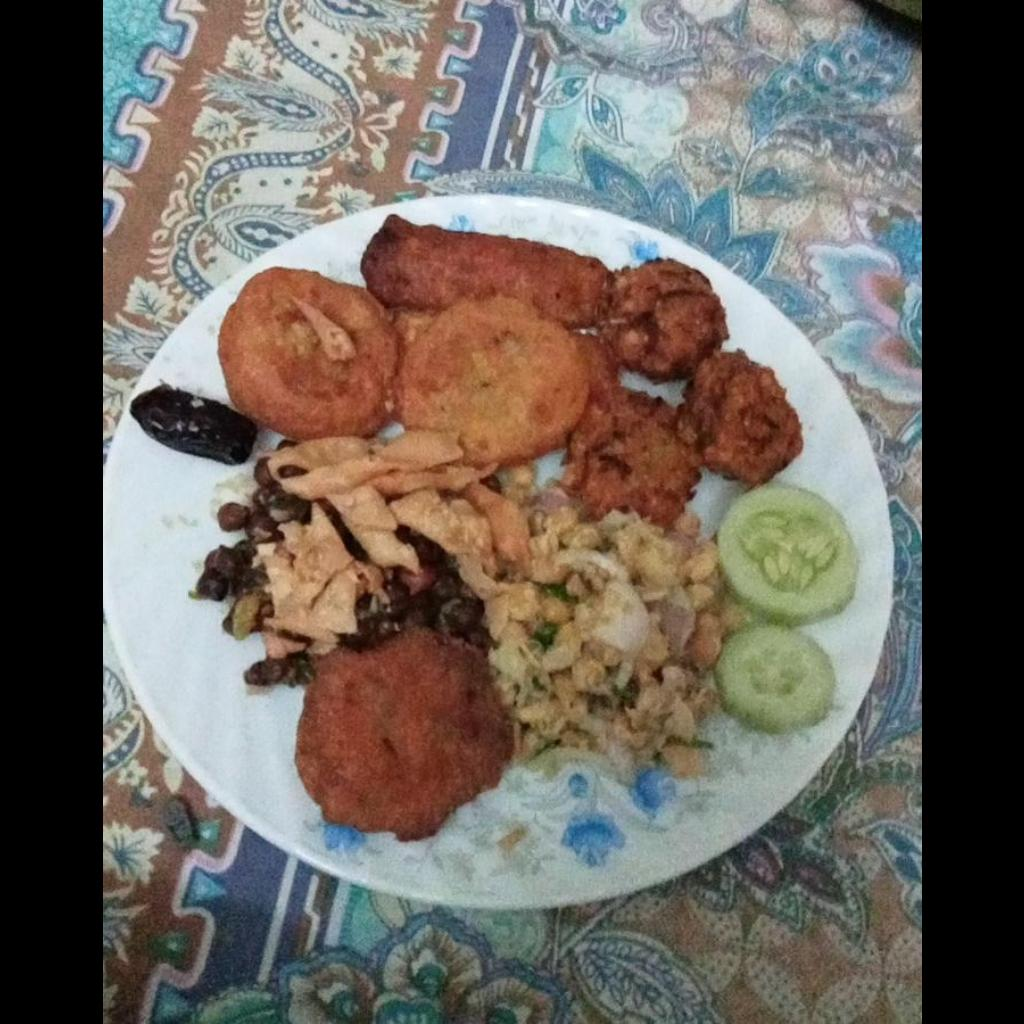beguni: (365, 211, 618, 322)
chola: (194, 462, 314, 685), (320, 504, 490, 652)
chomchom: (266, 431, 529, 597), (254, 505, 380, 653)
chop-alu: (219, 276, 584, 455), (293, 639, 517, 850)
cucumber: (712, 488, 862, 723)
daal: (484, 469, 736, 767)
dates: (121, 383, 253, 460)
peyaju: (564, 265, 804, 516)
